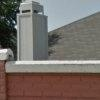Chimney: (11, 1, 52, 62)
